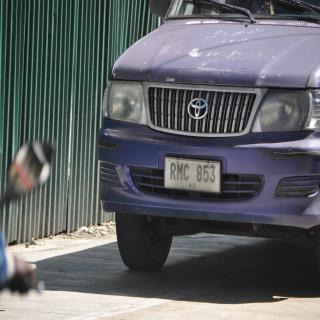license: (165, 158, 222, 195)
